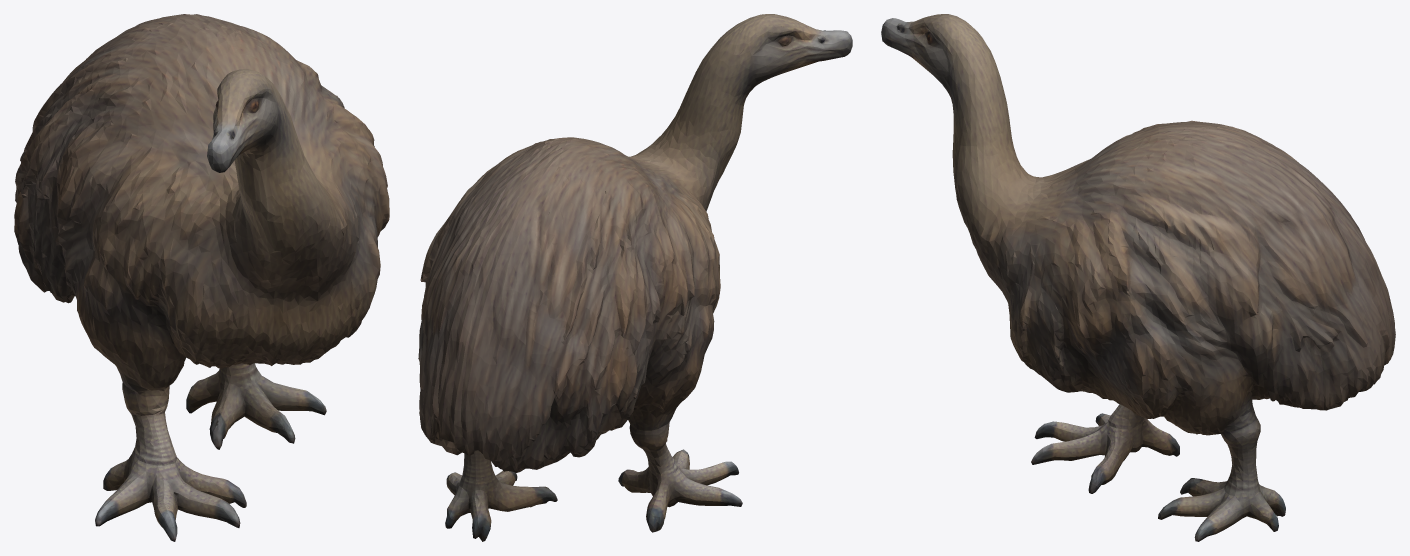
3 renders of one model, left to right at view 1: azimuth 30°, elevation 25°; view 2: azimuth 150°, elevation 25°; view 3: azimuth 270°, elevation 25°, orthographic. The views are drawn at different scales.
Parts seen in each view (by area): view 1: world; view 2: world; view 3: world.
Boxes of the visible parts, bbox=[...] form: world: bbox=[14, 14, 389, 541]; world: bbox=[418, 14, 852, 541]; world: bbox=[881, 14, 1395, 541].
Size of the model in its own units: 0.5936 by 0.9349 by 0.989.
1 material, 1 textured.
